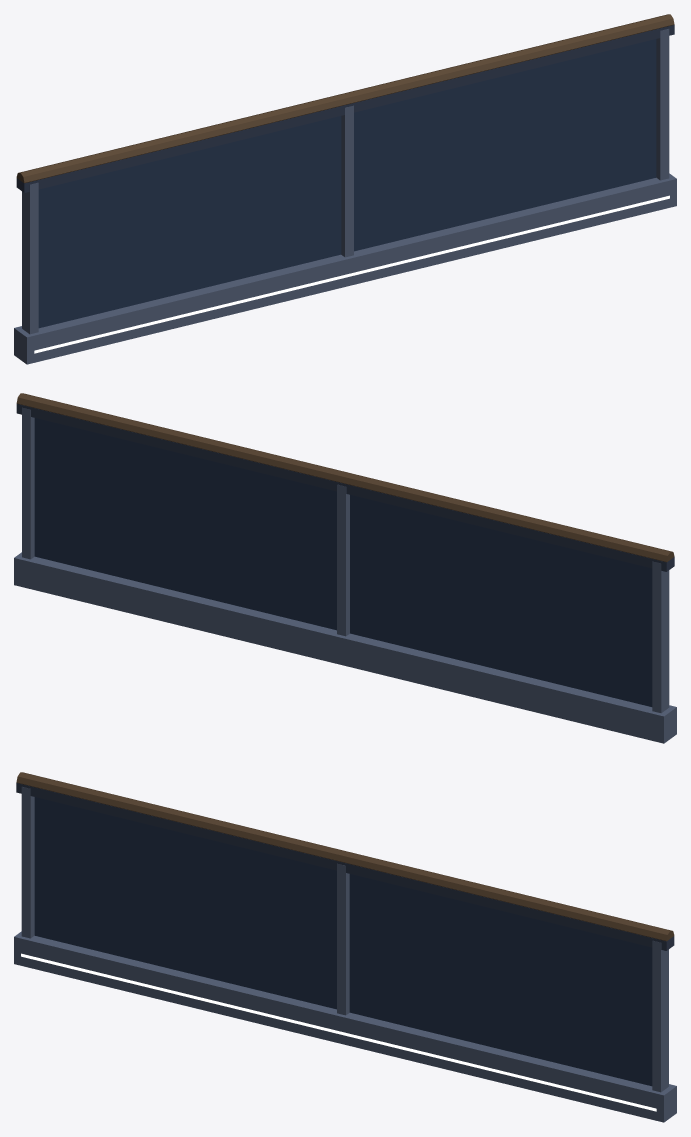
The model's file is off_atrium_glass_rail.glb.
The picture shows the model from 3 angles, top to bottom: view 1: azimuth 30°, elevation 25°; view 2: azimuth 150°, elevation 25°; view 3: azimuth 330°, elevation 25°; orthographic projection.
Visible parts, largest first — view 1: balustrade, channel, walnut_handrail, cap_channel, guide_light; view 2: balustrade, channel, walnut_handrail, cap_channel; view 3: balustrade, channel, walnut_handrail, cap_channel, guide_light.
Boxes of the visible parts, x1,y1,x2,y2 form: balustrade: [38, 39, 656, 328]; channel: [14, 29, 676, 364]; walnut_handrail: [16, 14, 674, 183]; cap_channel: [16, 25, 674, 192]; guide_light: [34, 195, 669, 353]; balustrade: [34, 418, 652, 706]; channel: [14, 407, 676, 743]; walnut_handrail: [16, 393, 674, 562]; cap_channel: [16, 404, 674, 571]; balustrade: [34, 797, 652, 1086]; channel: [14, 787, 676, 1122]; walnut_handrail: [16, 772, 674, 941]; cap_channel: [16, 783, 674, 950]; guide_light: [21, 953, 656, 1111].
Bounding box in the file's own units: 4 × 1.1 × 0.14.
